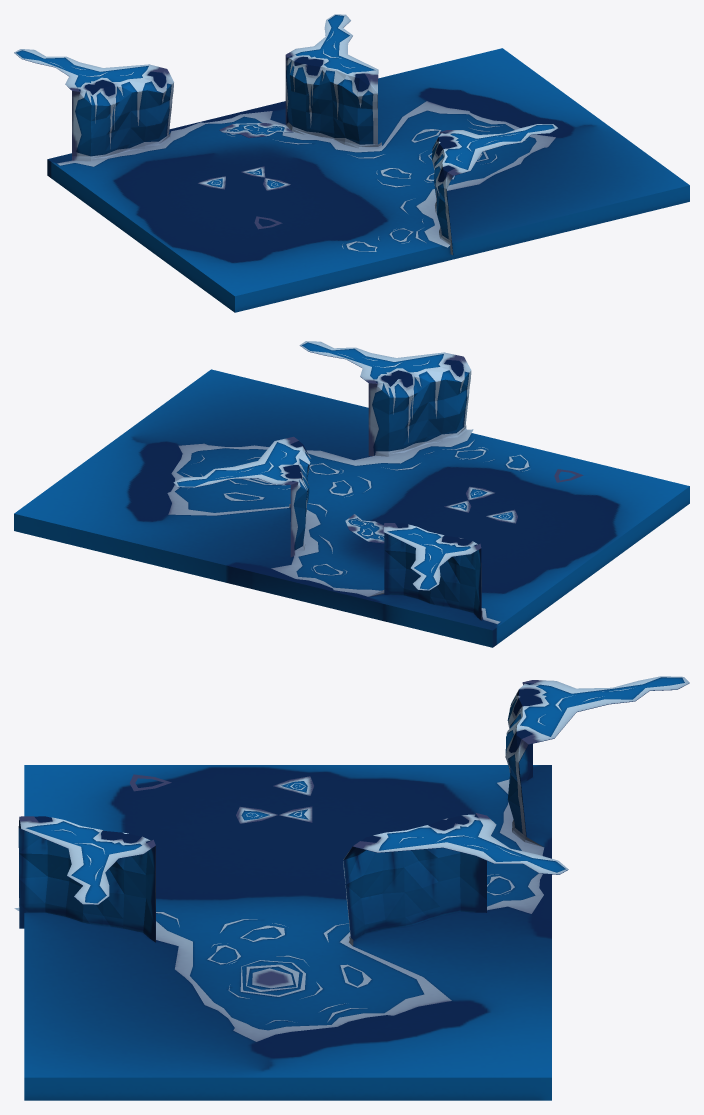
Rendered from Water_01.FBX.
3 views of the same model, one above another, from view 1: azimuth 30°, elevation 25°; view 2: azimuth 150°, elevation 25°; view 3: azimuth 270°, elevation 25° (orthographic). The views are drawn at different scales.
Visible parts, largest first — view 1: Water_01; view 2: Water_01; view 3: Water_01.
Boxes of the visible parts, x1,y1,x2,y2 form: Water_01: [14, 14, 689, 312]; Water_01: [14, 341, 689, 647]; Water_01: [14, 676, 689, 1100].
Size of the model in its own units: 43.38 by 7.83 by 39.63.
